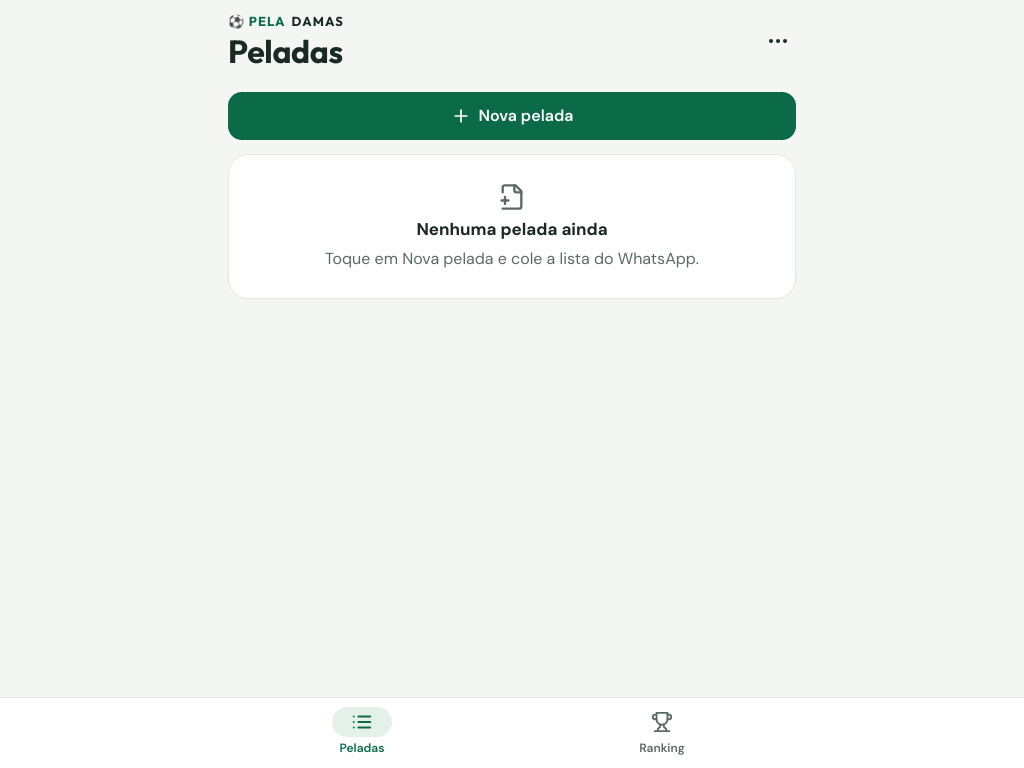
Scenario: does not let a refresh started before saving overwrite the saved ranking
Click the button "Ranking".
click(662, 732)  # box left=512, top=704, right=812, bottom=760
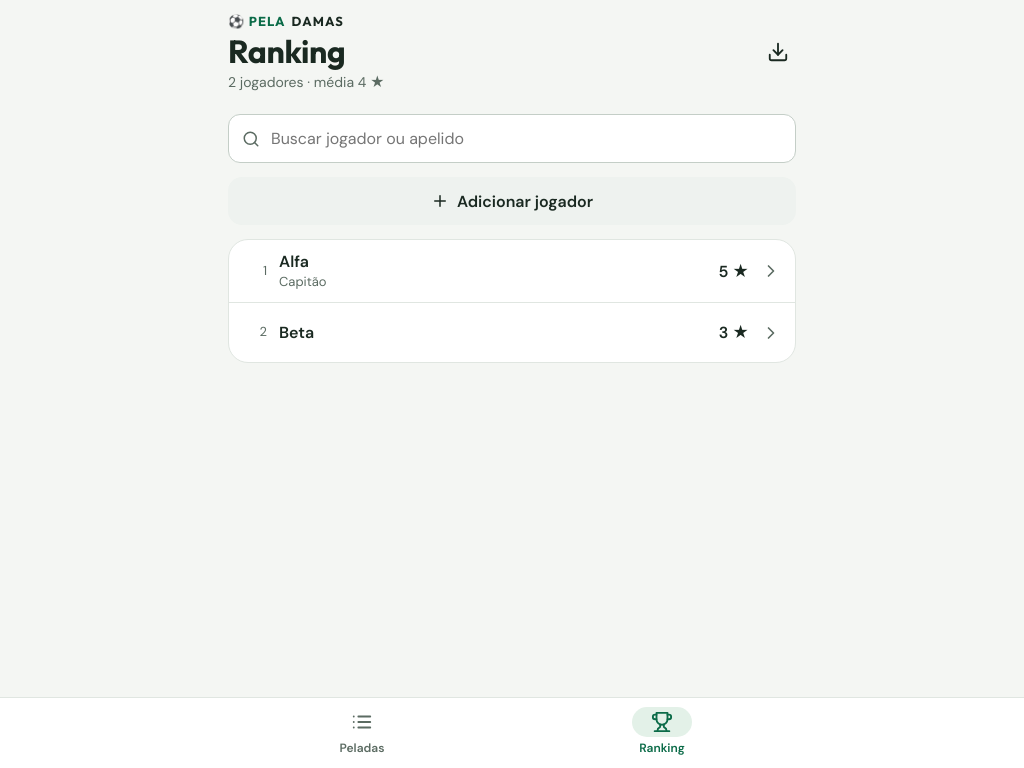
Click the button "1 Alfa Capitão 5 ★".
click(303, 282)  # box left=229, top=240, right=795, bottom=302
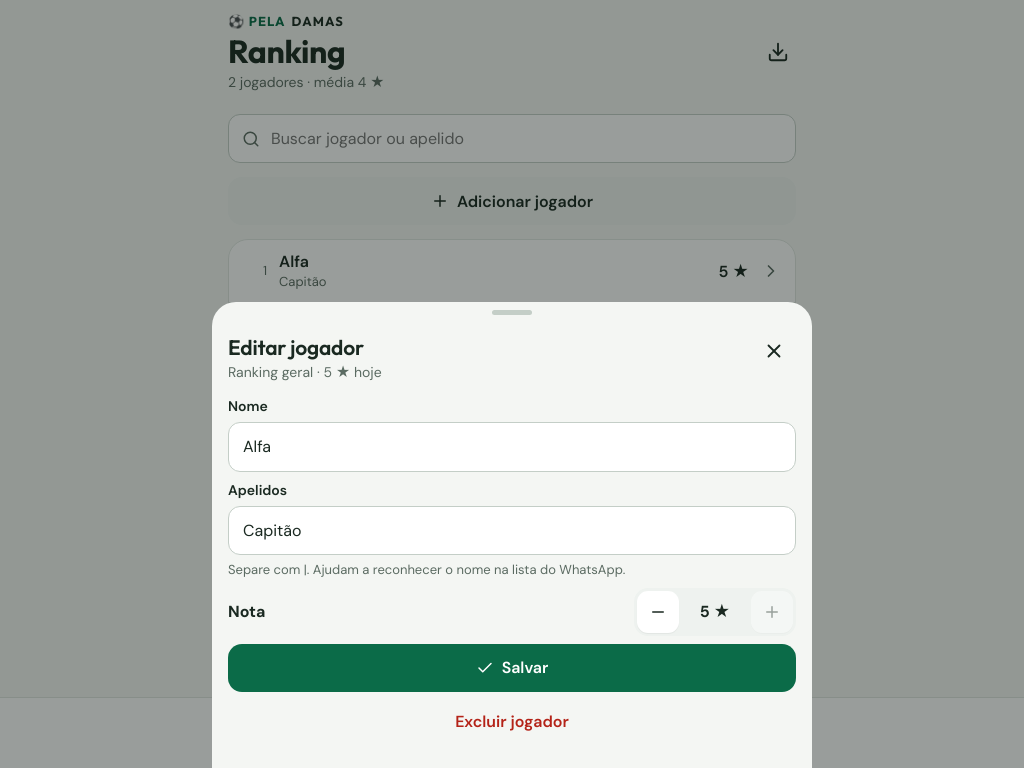
Click the button named "Diminuir nota".
click(658, 612)  # box left=637, top=591, right=679, bottom=633
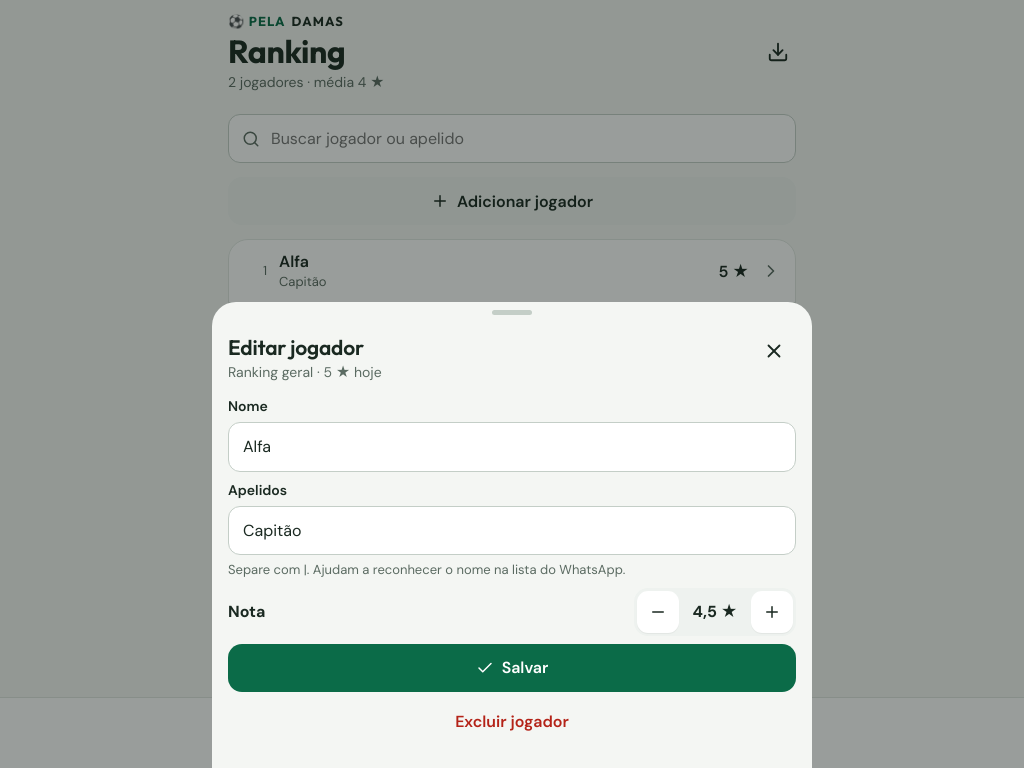
expect the button "Salvar" is shown: met
Click the button "Salvar".
click(512, 668)  # box left=228, top=644, right=796, bottom=692
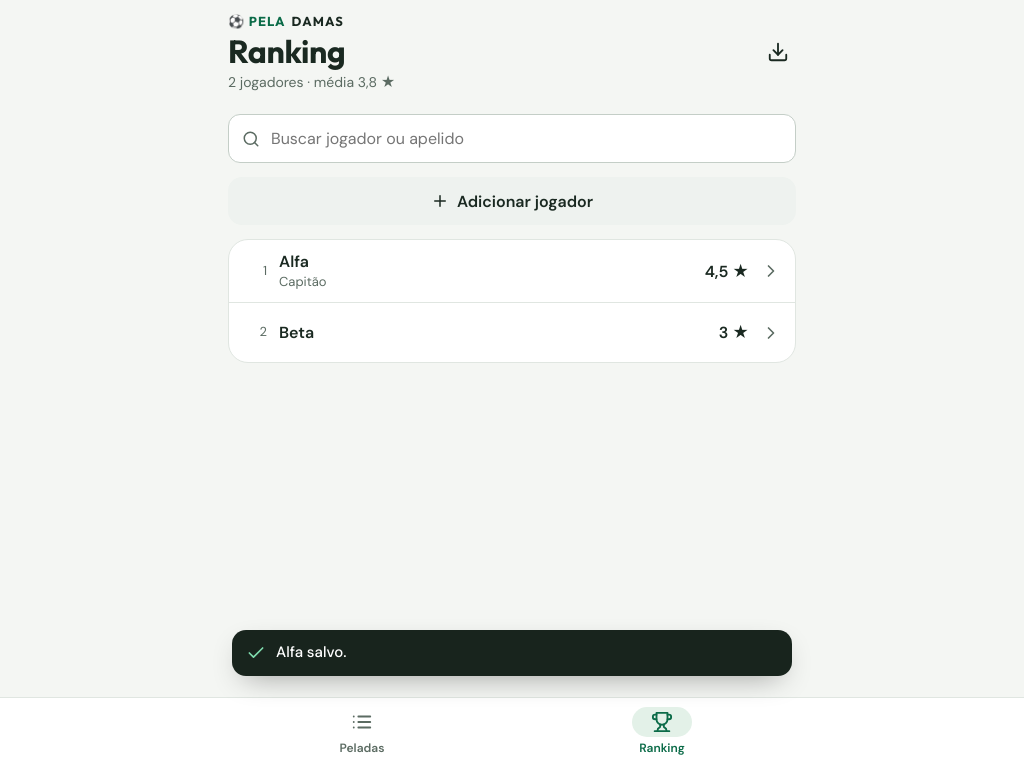
expect the button with class "ranking-row" shows "4,5": met, box left=229, top=240, right=795, bottom=302
